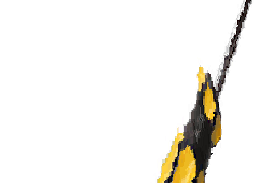screwdriver: (154, 1, 256, 183)
